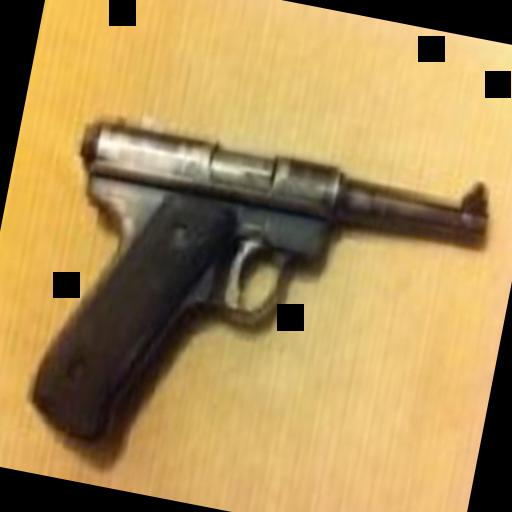Handgun: (12, 102, 509, 512)
